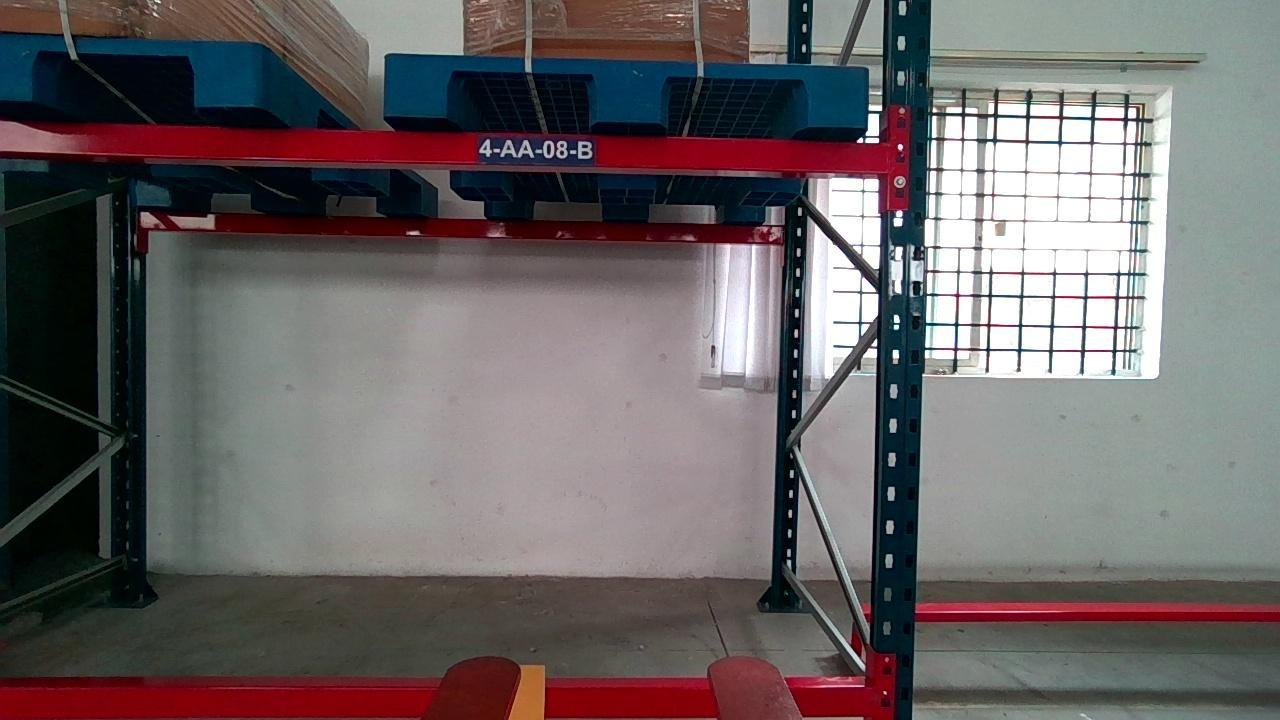h_rack: (0, 120, 891, 173), (2, 684, 865, 716)
small_pallet: (386, 53, 869, 124), (0, 32, 264, 106)
